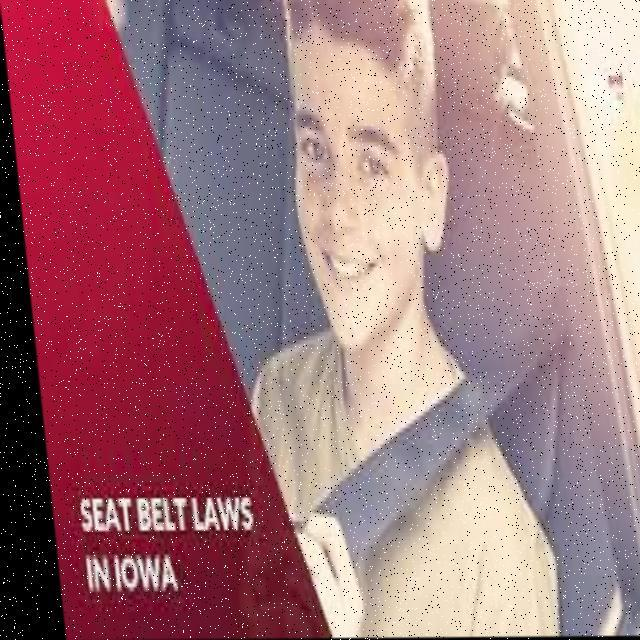seatbelt: (240, 298, 561, 638)
